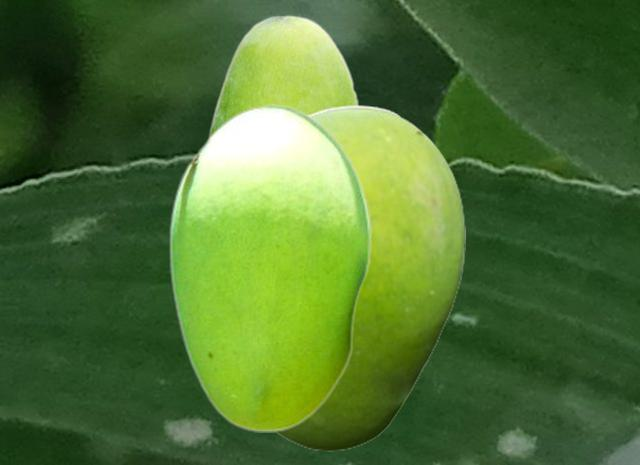green_mango: (272, 104, 464, 450), (168, 103, 370, 431), (204, 14, 360, 141)
